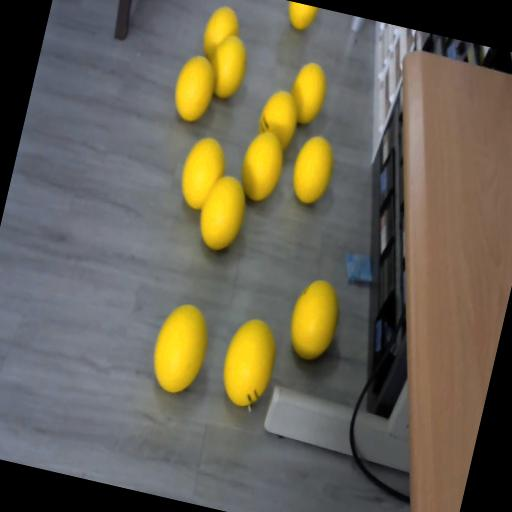FUEL: (145, 298, 216, 398), (214, 312, 284, 412), (282, 273, 346, 364), (192, 170, 253, 256), (234, 126, 290, 206), (286, 132, 340, 208), (168, 52, 220, 126), (284, 59, 332, 128), (198, 2, 243, 66), (284, 1, 318, 34)
